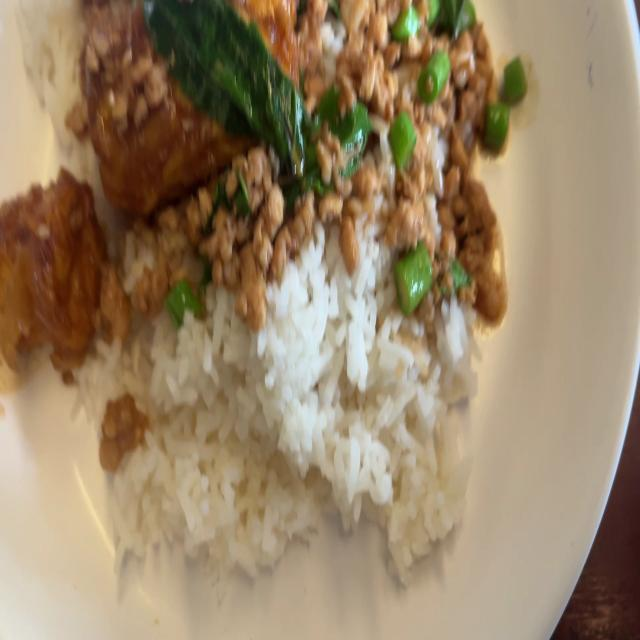01rice: (136, 246, 463, 563)
fried_tofo: (87, 0, 301, 153), (0, 178, 99, 348)
minced_pork: (306, 0, 515, 305), (123, 156, 321, 313)
stir_fried_basil: (0, 0, 522, 582)
